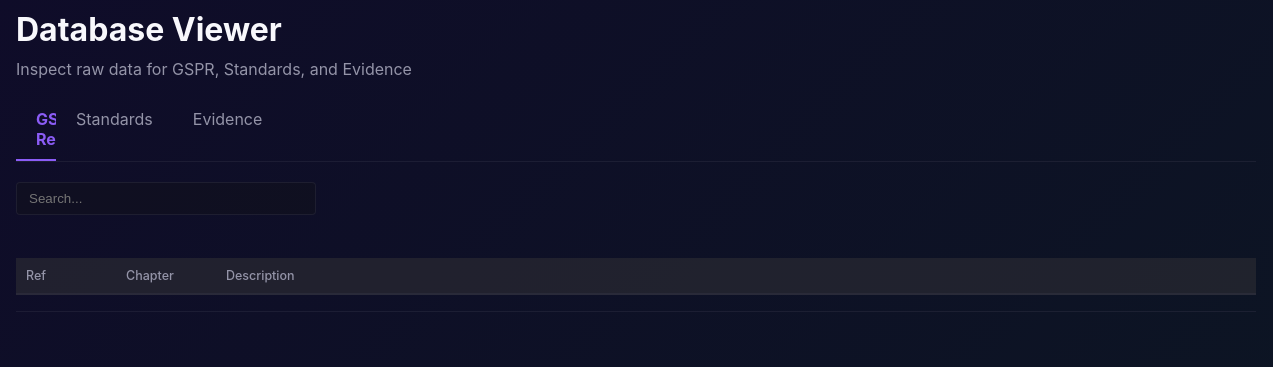
Scenario: DatabaseViewer › renders table rows when standards data is returned
# click onto the Standards tab so the component fetches standards
Click the text "Standards" at point(114, 119), box [76,109,153,129]
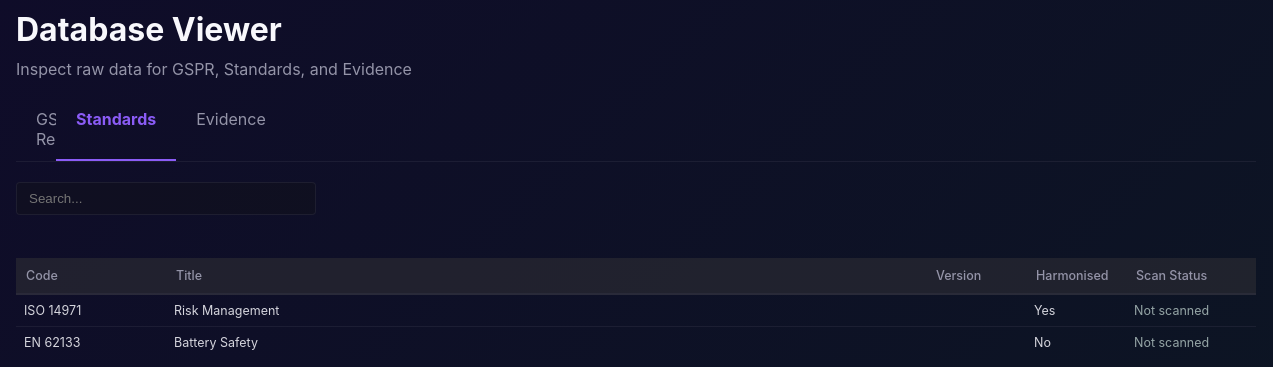
Expected: the text "ISO 14971" is shown, [16,295,166,327]
